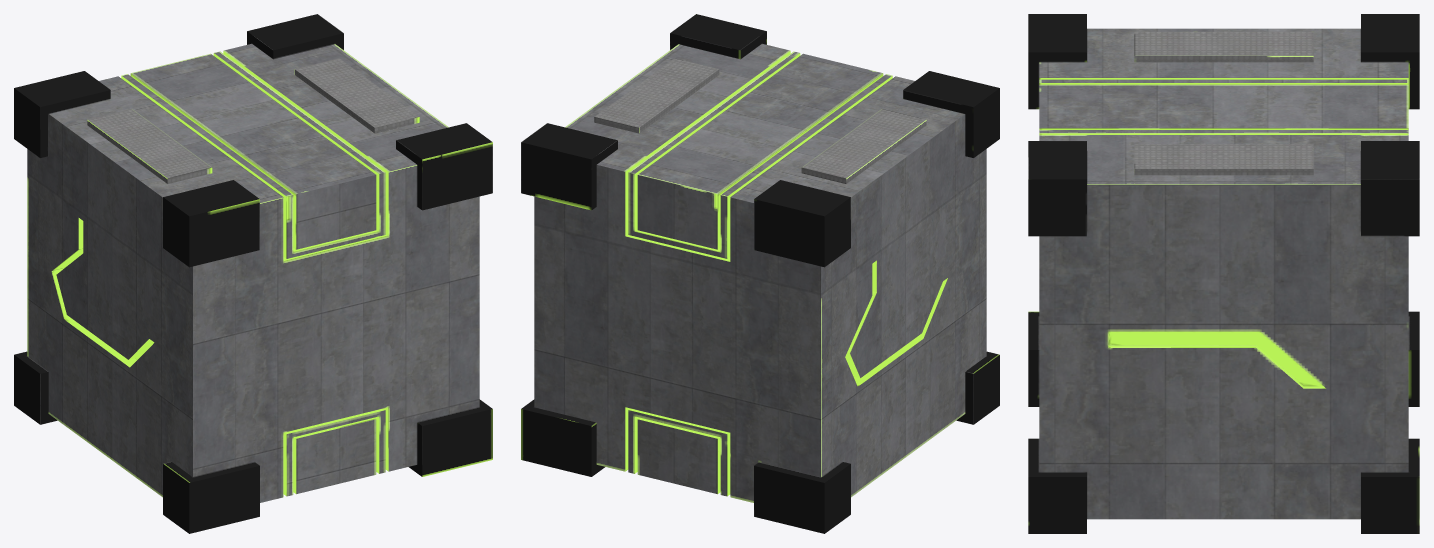
The model's file is Block#1.fbx.
3 views of the same model, side by side, from view 1: azimuth 30°, elevation 25°; view 2: azimuth 150°, elevation 25°; view 3: azimuth 270°, elevation 25° (orthographic). The views are drawn at different scales.
Visible parts, largest first — view 1: Block#1; view 2: Block#1; view 3: Block#1.
Part boxes in pixels (x1,y1,x2,y2): Block#1: [14, 14, 492, 533]; Block#1: [521, 14, 999, 533]; Block#1: [1028, 14, 1419, 533].
Bounding box in the file's own units: 870 × 870 × 870.
1 material, 1 textured.
